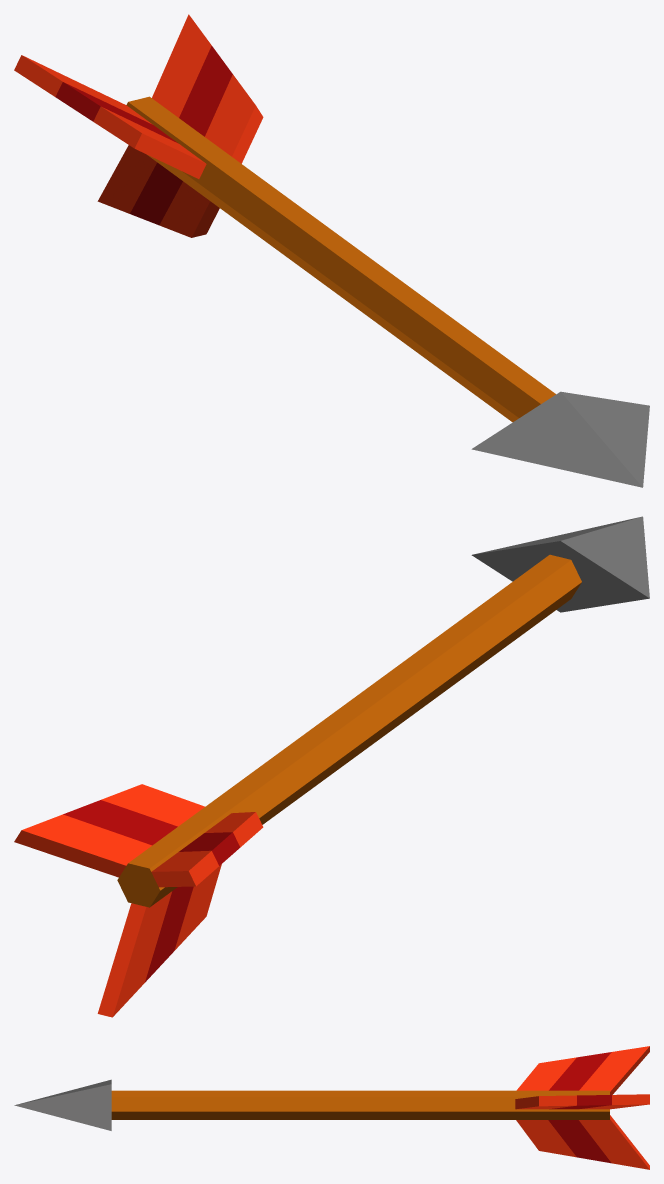
Rendered from Weapon_Arrow_lvl01.fbx.
The picture shows the model from 3 angles, top to bottom: view 1: azimuth 30°, elevation 25°; view 2: azimuth 150°, elevation 25°; view 3: azimuth 270°, elevation 25°; orthographic projection. The views are drawn at different scales.
Parts seen in each view (by area): view 1: Weapon_Arrow_lvl01; view 2: Weapon_Arrow_lvl01; view 3: Weapon_Arrow_lvl01.
Boxes of the visible parts, x1=… form: Weapon_Arrow_lvl01: x1=14, y1=14, x2=649, y2=487; Weapon_Arrow_lvl01: x1=14, y1=516, x2=649, y2=1017; Weapon_Arrow_lvl01: x1=14, y1=1046, x2=649, y2=1169.
Size of the model in its own units: 14.52 by 12.58 by 74.27.
